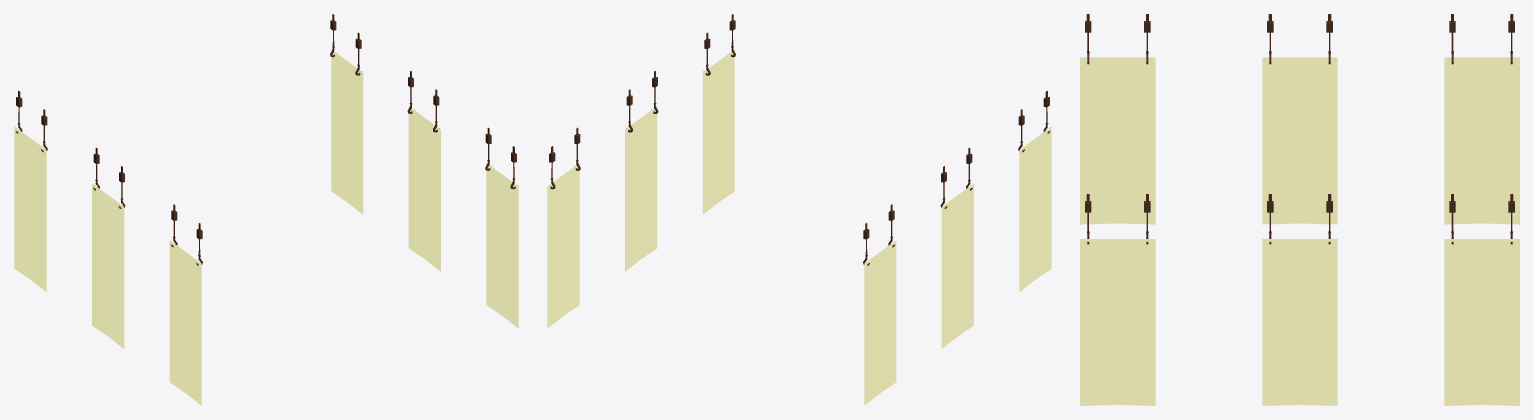
File: Banners.glb
3 renders of one model, left to right at view 1: azimuth 30°, elevation 25°; view 2: azimuth 150°, elevation 25°; view 3: azimuth 270°, elevation 25°, orthographic. The views are drawn at different scales.
Visible parts, largest first — view 1: Banners; view 2: Banners; view 3: Banners.
Part boxes in pixels (box(x1,y1,x2,y2)): Banners: box(14, 14, 518, 405); Banners: box(547, 14, 1051, 405); Banners: box(1080, 14, 1519, 405).
Size of the model in its own units: 55.99 by 29.94 by 56.56.
